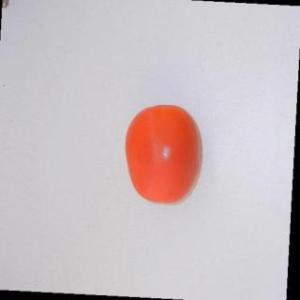tomato: (116, 98, 209, 212)
